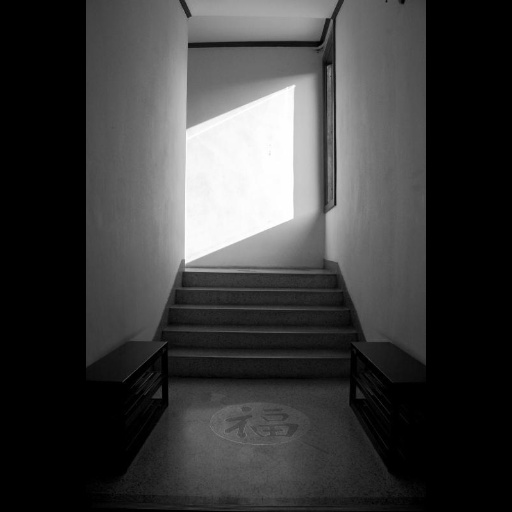Stairs: (162, 268, 358, 378)
